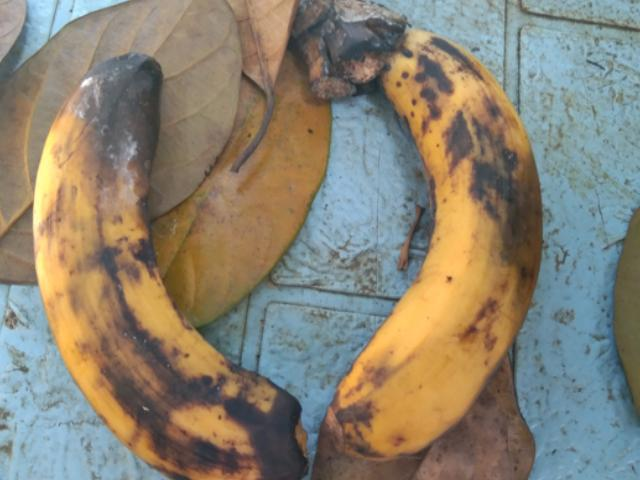overripe: (17, 44, 320, 479), (330, 36, 561, 460)
